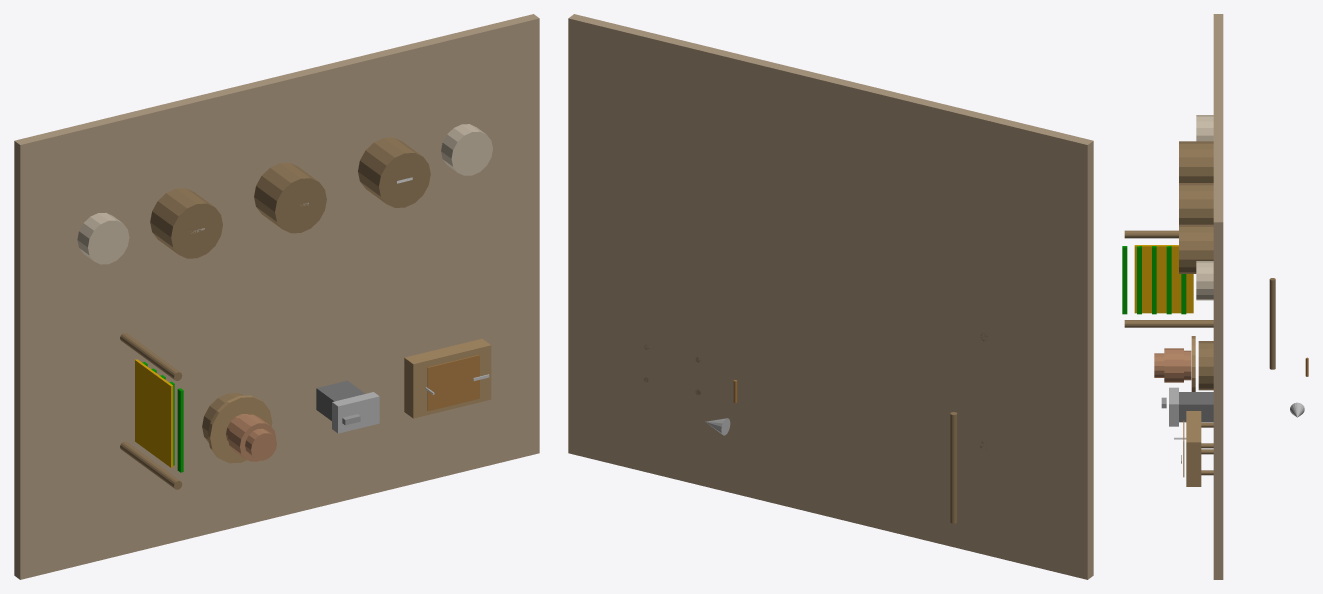
File: traditional_crafts.glb
3 views of the same model, side by side, from view 1: azimuth 30°, elevation 25°; view 2: azimuth 150°, elevation 25°; view 3: azimuth 270°, elevation 25° (orthographic). The views are drawn at different scales.
Parts seen in each view (by area): view 1: world; view 2: world; view 3: world.
Boxes of the visible parts, <box> form: world: <box>14,14,539,579</box>; world: <box>568,14,1093,579</box>; world: <box>1122,14,1308,579</box>.
Size of the model in its own units: 10 by 8 by 3.78.
